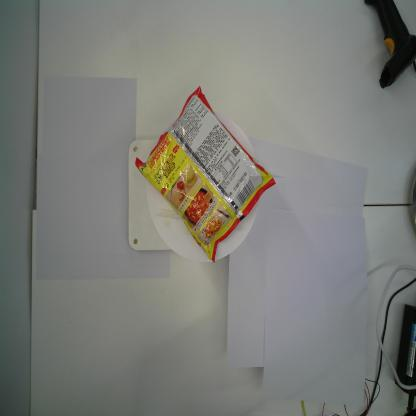Instant Noodles: (134, 85, 277, 263)
